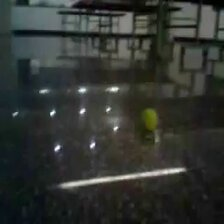tennis: (141, 108, 160, 132)
